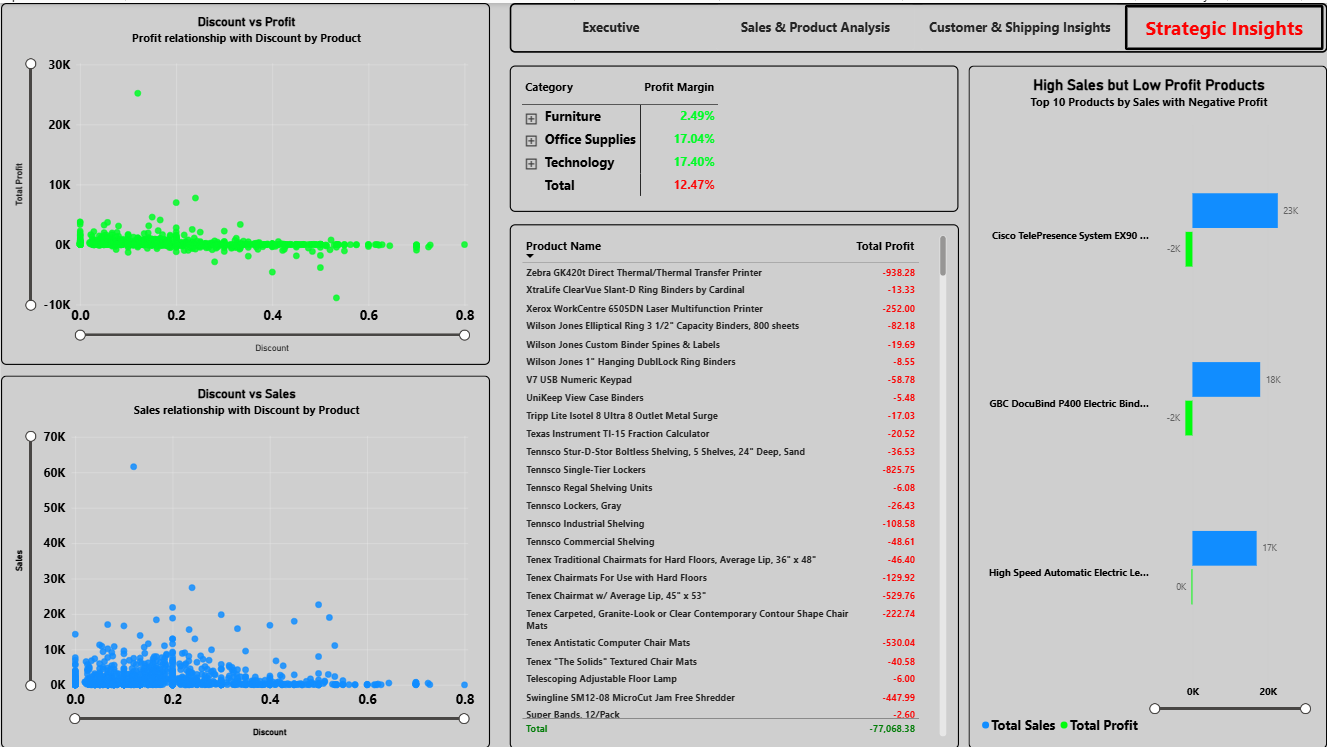

This screenshot's page, from the dashboard's own definition file:
{"tool":"powerbi","page":{"name":"Strategic Insights","canvas":[1920,1080],"ordinal":3},"visuals":[{"type":"scatterChart","title":"Discount vs Profit","fields":{"X":["Avg(superstore_project superstore_cleaned.Discount)"],"Y":["superstore_project superstore_cleaned.Total Profit"],"Category":["superstore_project superstore_cleaned.Product Name"]},"box":[0,0,708,524],"z":0},{"type":"scatterChart","title":"Discount vs Sales","fields":{"X":["Avg(superstore_project superstore_cleaned.Discount)"],"Y":["superstore_project superstore_cleaned.Total Sales"],"Category":["superstore_project superstore_cleaned.Product Name"]},"box":[0,540,708,540],"z":1000},{"type":"pivotTable","fields":{"Rows":["superstore_project superstore_cleaned.Category","superstore_project superstore_cleaned.Sub-Category"],"Values":["superstore_project superstore_cleaned.Profit Margin"]},"box":[736.5,90.5,649.7,211.7],"z":2000},{"type":"tableEx","fields":{"Values":["superstore_project superstore_cleaned.Product Name","superstore_project superstore_cleaned.Total Profit"]},"box":[736,320,650,760],"z":3000},{"type":"clusteredBarChart","title":"High Sales but Low Profit Products","fields":{"Category":["superstore_project superstore_cleaned.Product Name"],"Y":["superstore_project superstore_cleaned.Total Sales","superstore_project superstore_cleaned.Total Profit"]},"box":[1400.7,90.5,519.4,989.9],"z":4000},{"type":"pageNavigator","box":[736,0,1184,72],"z":11000}]}

Visuals, with their boxes in screenshot pixels (x1, y1, x2, y2), scaled from the page's 1920x1080 canvas onto the 1327x747 screenshot:
"Discount vs Profit" scatterChart: 0,0,489,362
"Discount vs Sales" scatterChart: 0,374,489,746
pivotTable - superstore_project superstore_cleaned.Category x superstore_project superstore_cleaned.Sub-Category: 509,63,958,209
tableEx - superstore_project superstore_cleaned.Product Name x superstore_project superstore_cleaned.Total Profit: 509,221,958,746
"High Sales but Low Profit Products" clusteredBarChart: 968,63,1326,746
pageNavigator: 509,0,1326,50
